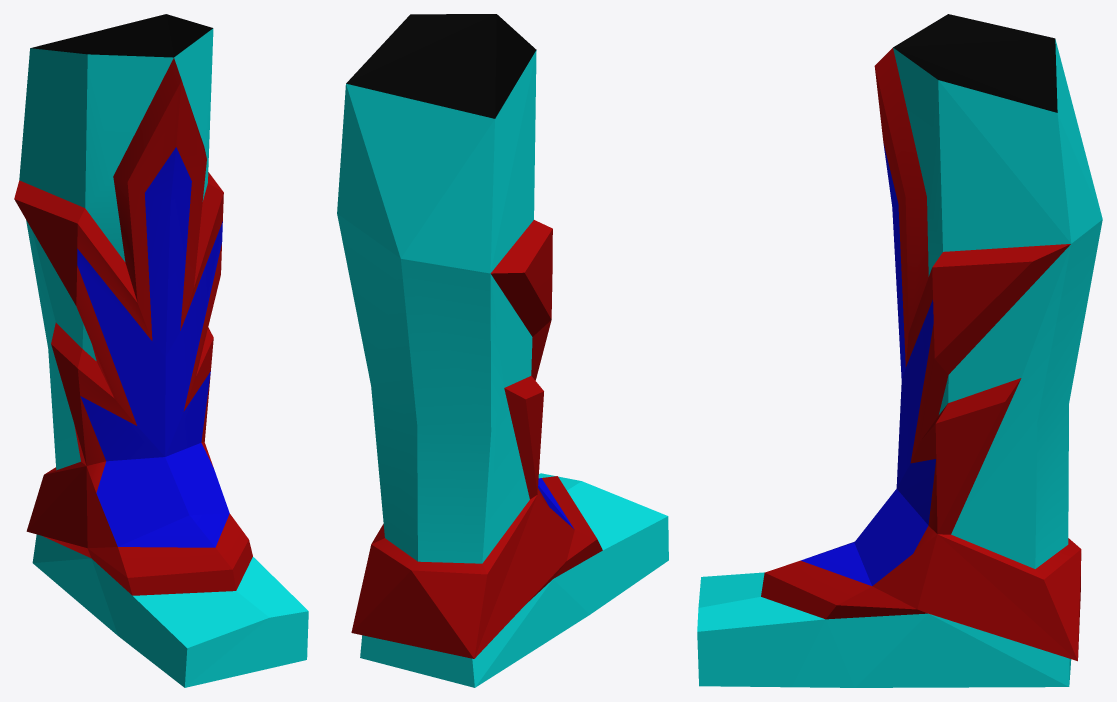
File: Chr_LegLeft_Male_Static_12.fbx
The picture shows the model from 3 angles, left to right: view 1: azimuth 30°, elevation 25°; view 2: azimuth 150°, elevation 25°; view 3: azimuth 270°, elevation 25°; orthographic projection. The views are drawn at different scales.
Visible parts, largest first — view 1: Chr_LegLeft_Male_12; view 2: Chr_LegLeft_Male_12; view 3: Chr_LegLeft_Male_12.
Part boxes in pixels (x1,y1,x2,y2): Chr_LegLeft_Male_12: (14, 14, 308, 687); Chr_LegLeft_Male_12: (337, 14, 668, 687); Chr_LegLeft_Male_12: (697, 14, 1102, 687).
Bounding box in the file's own units: 13.14 × 40.4 × 24.2.
